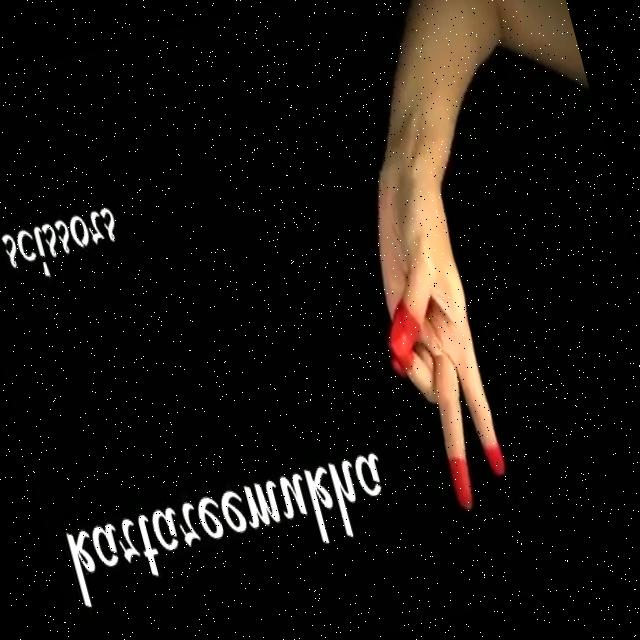Kartarimukha: (308, 101, 565, 544)
text: (51, 425, 404, 621), (0, 184, 133, 289)
